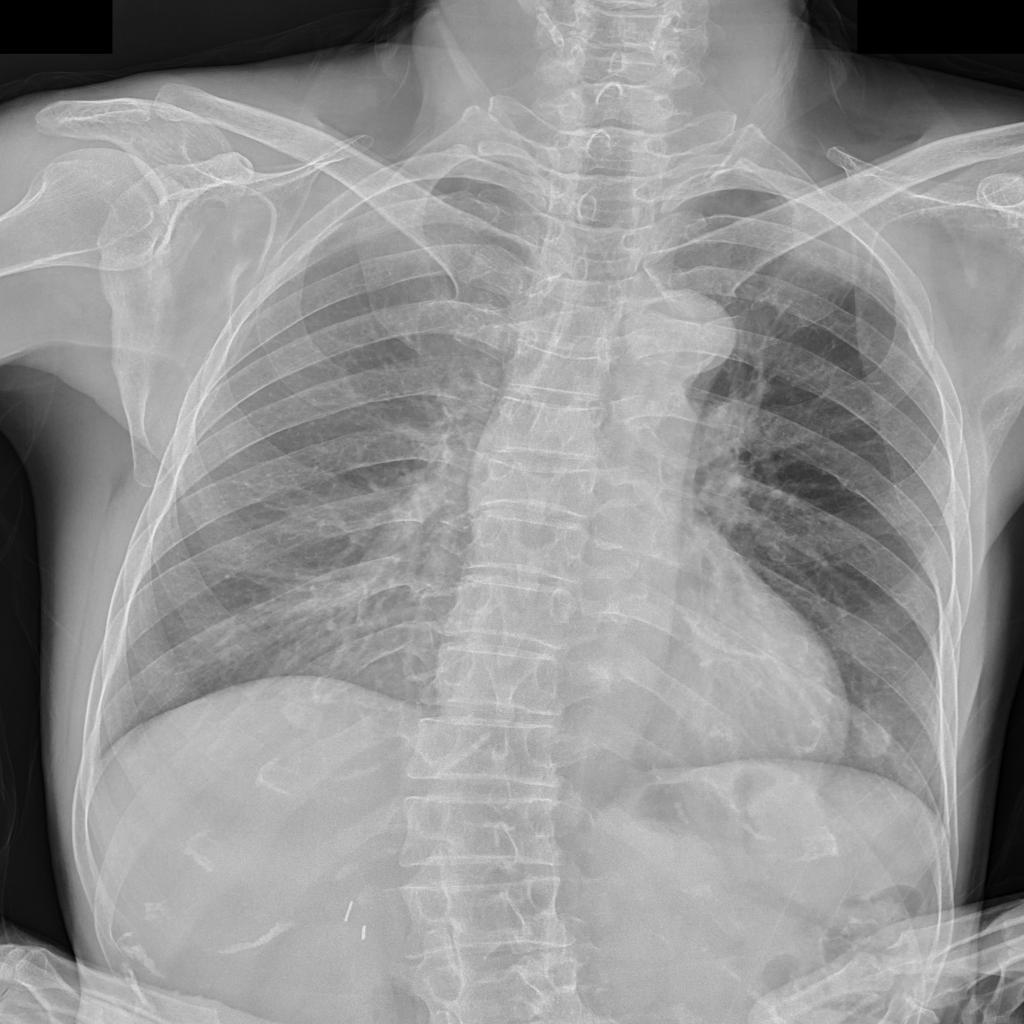Nodule: (286, 699, 325, 735), (861, 723, 893, 758)
